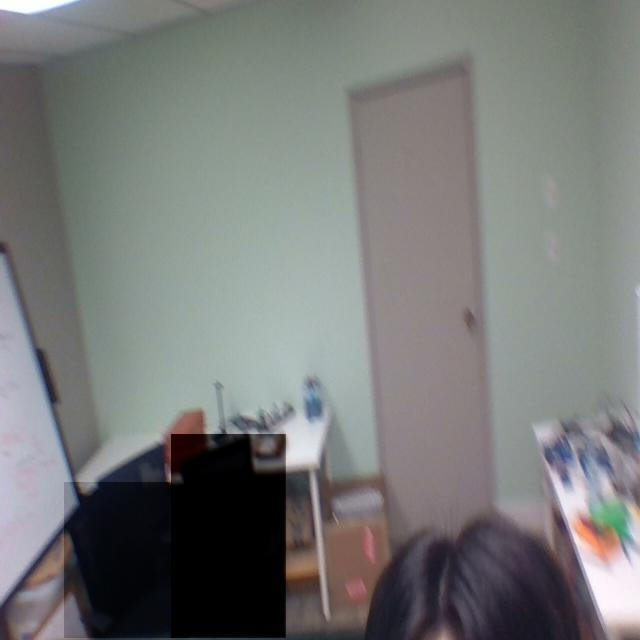black-chair: (171, 434, 287, 639), (64, 482, 190, 639)
